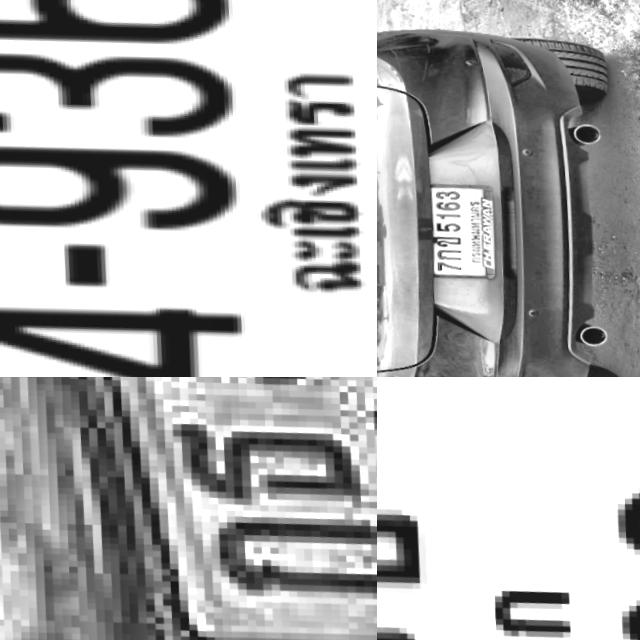license-plate: (0, 0, 377, 377), (0, 377, 377, 640), (377, 377, 640, 640), (423, 169, 510, 279)
